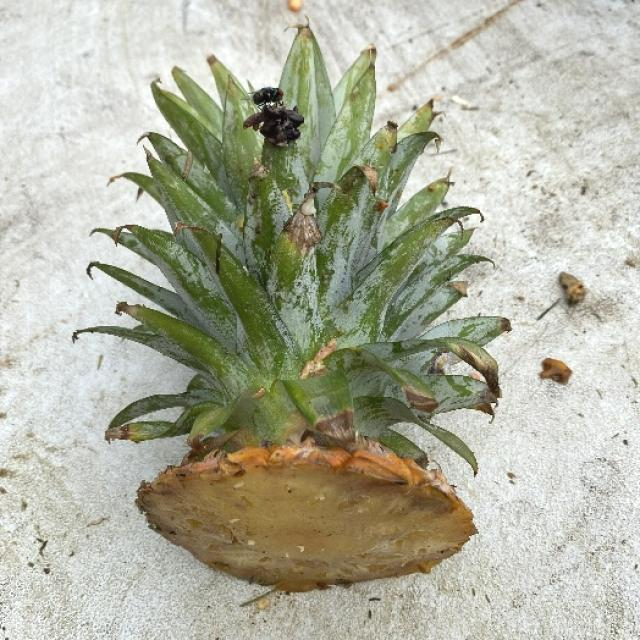wet: (82, 16, 484, 592)
